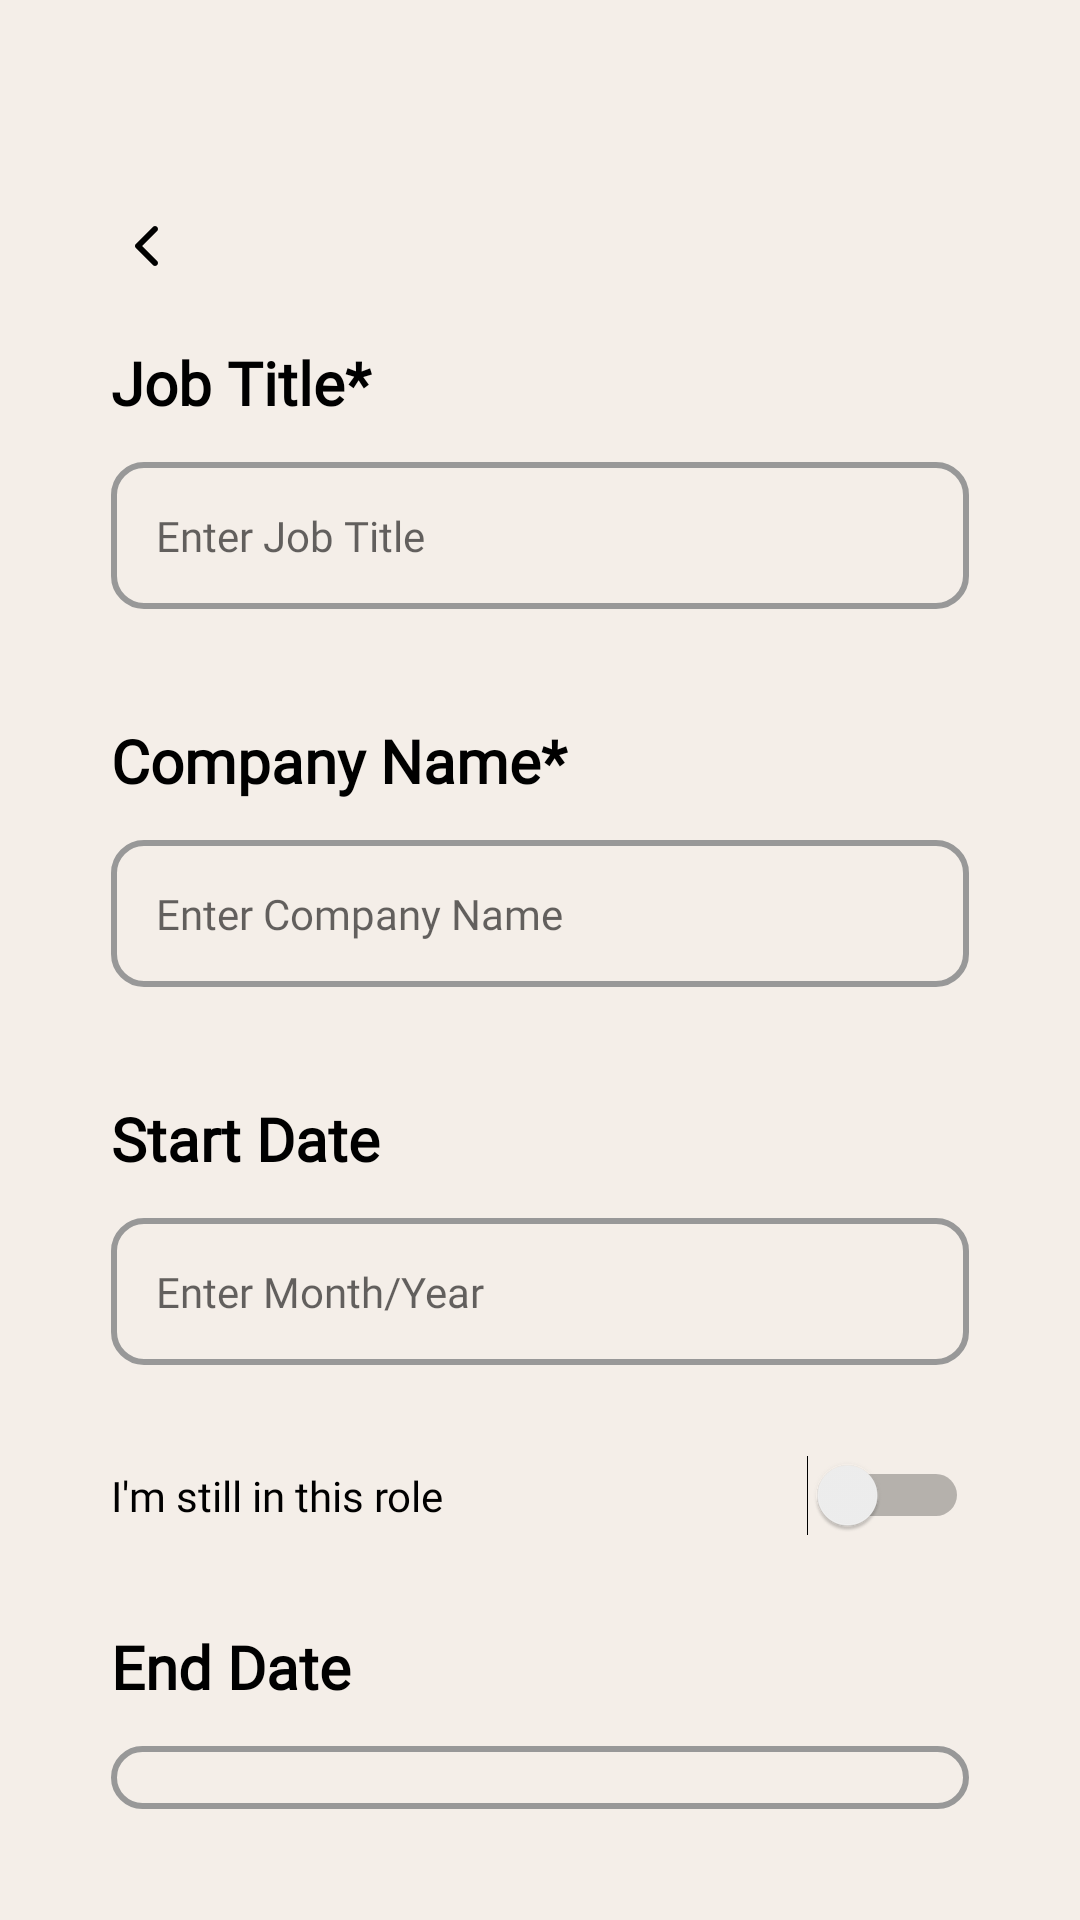

Locate icon controls on the screen. Image size 1080w x 1920h, boxes as {"left": x1, "top": y1, "right": x2, "bottom": y2}.
back: {"left": 135, "top": 226, "right": 158, "bottom": 266}
